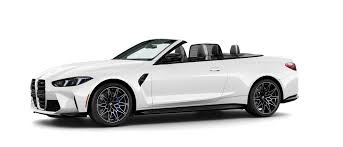car: (25, 36, 298, 129)
